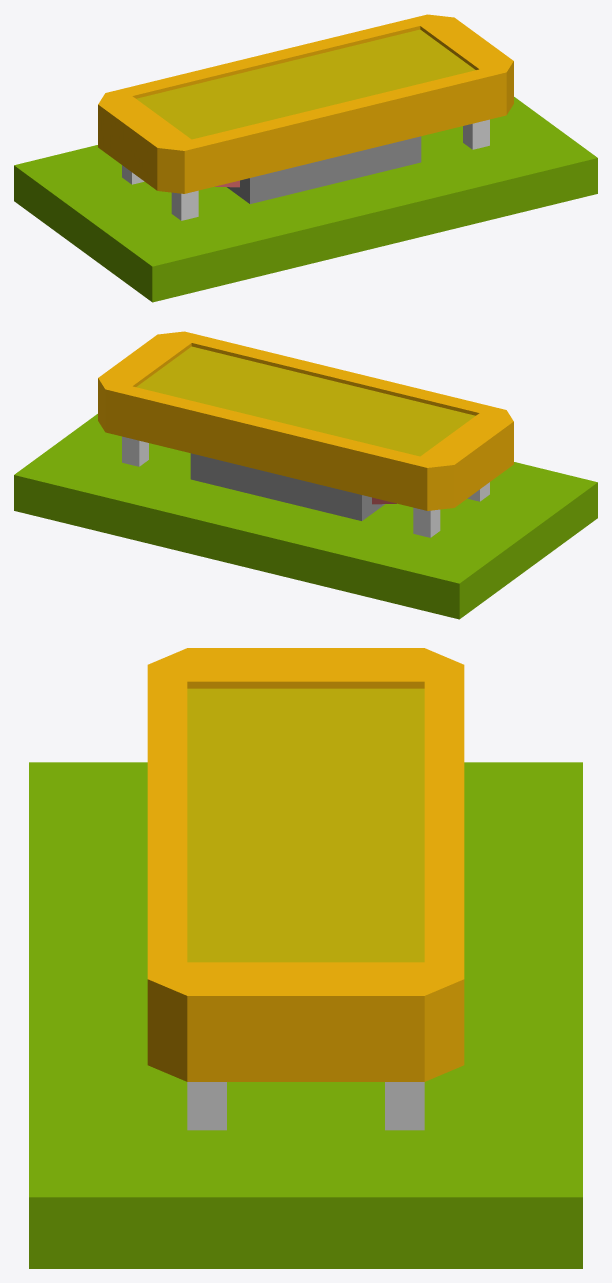
The model's file is dpe_4char_matrix_display.dae.
3 views of the same model, one above another, from view 1: azimuth 30°, elevation 25°; view 2: azimuth 150°, elevation 25°; view 3: azimuth 270°, elevation 25° (orthographic). The views are drawn at different scales.
Visible parts, largest first — view 1: 4char_matrix_display; view 2: 4char_matrix_display; view 3: 4char_matrix_display.
Boxes of the visible parts, x1,y1,x2,y2 form: 4char_matrix_display: (14,14,597,302); 4char_matrix_display: (14,331,597,619); 4char_matrix_display: (29,648,582,1268).
Bounding box in the file's own units: 0.13 × 0.07 × 0.032.
